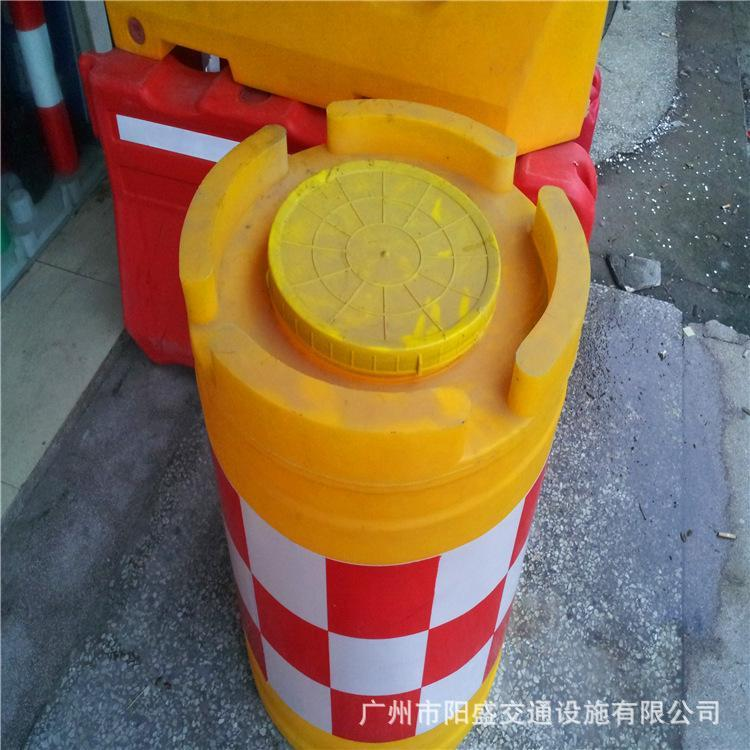sign: (177, 101, 601, 742)
